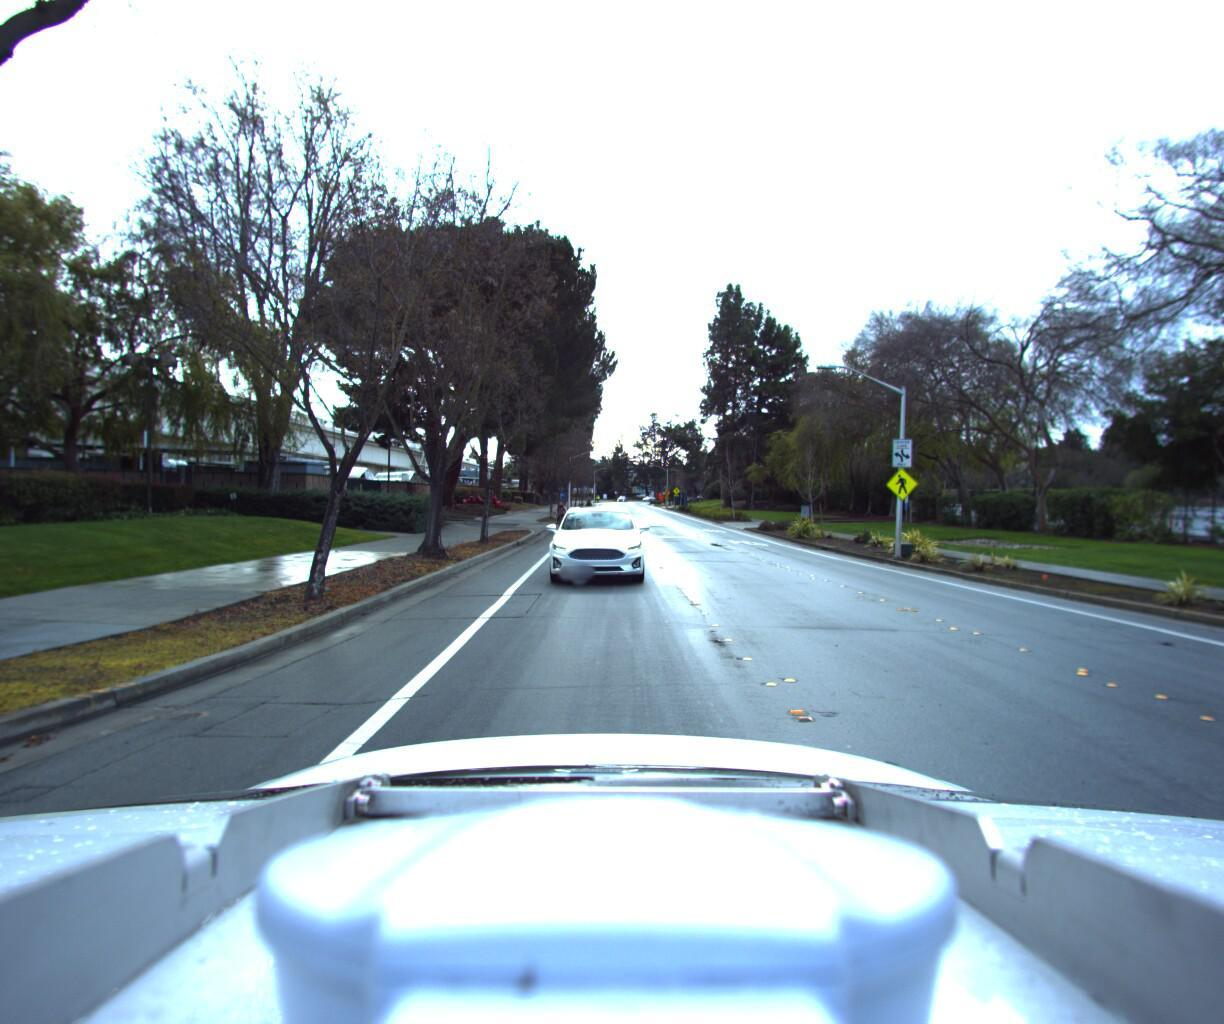bicycle: (552, 500, 570, 534), (582, 498, 596, 530)
car: (540, 507, 647, 591)
